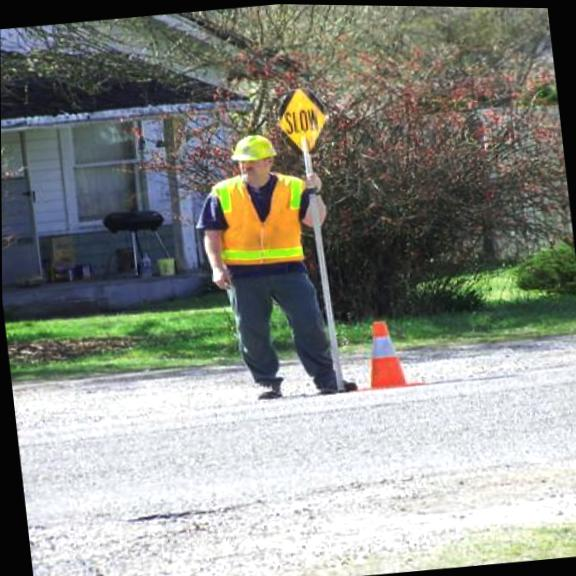safety_vest: (210, 165, 314, 273)
